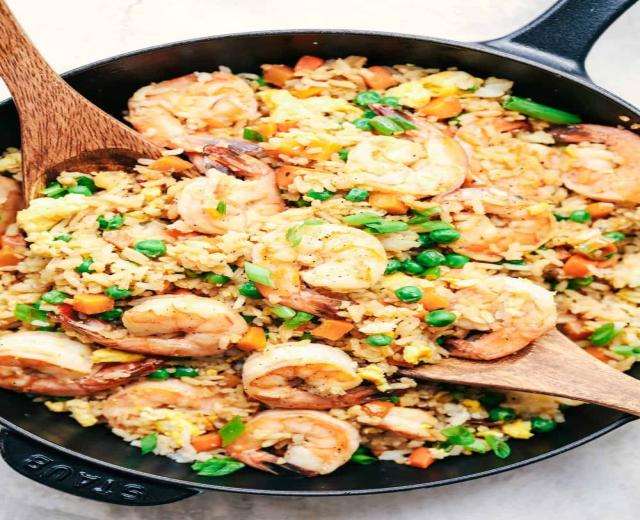fried rice: (8, 63, 627, 468), (0, 0, 173, 202)
